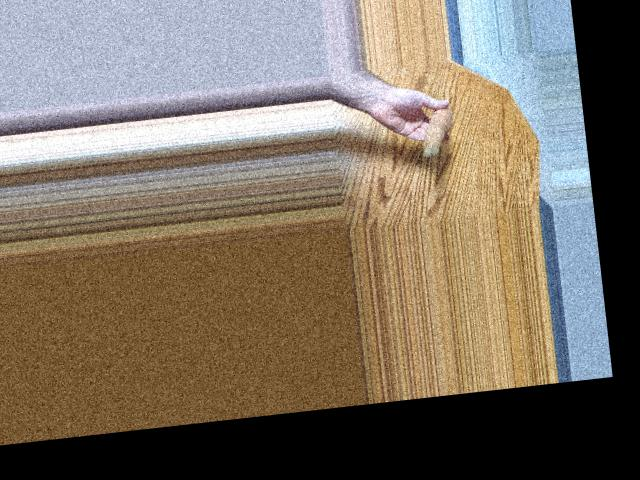sweet_potato: (415, 103, 456, 158)
